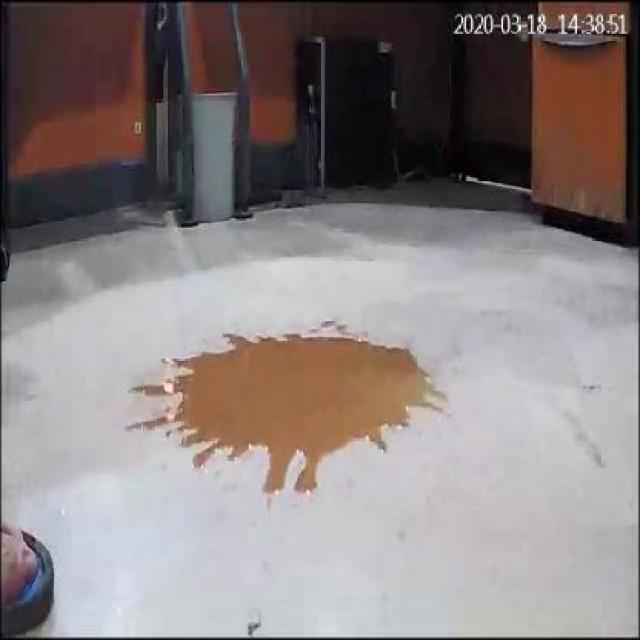spill: (126, 318, 434, 504)
